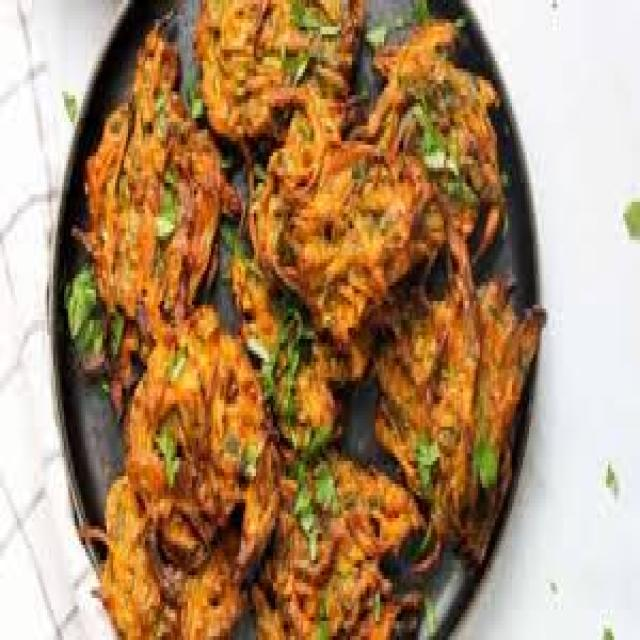BAJI: (252, 14, 503, 391), (370, 270, 551, 567), (86, 29, 240, 353), (127, 304, 283, 595)
